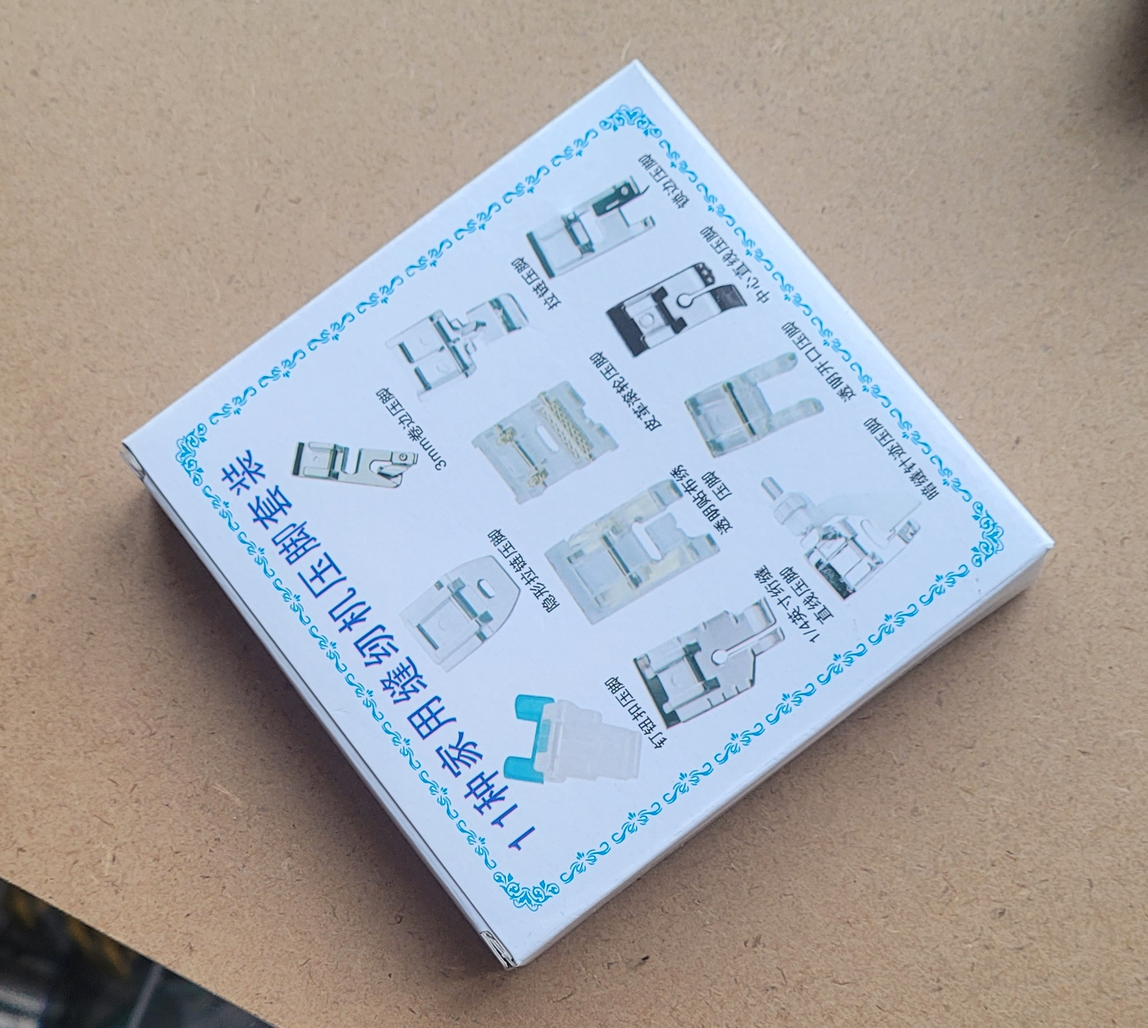paper: (110, 140, 1094, 817)
